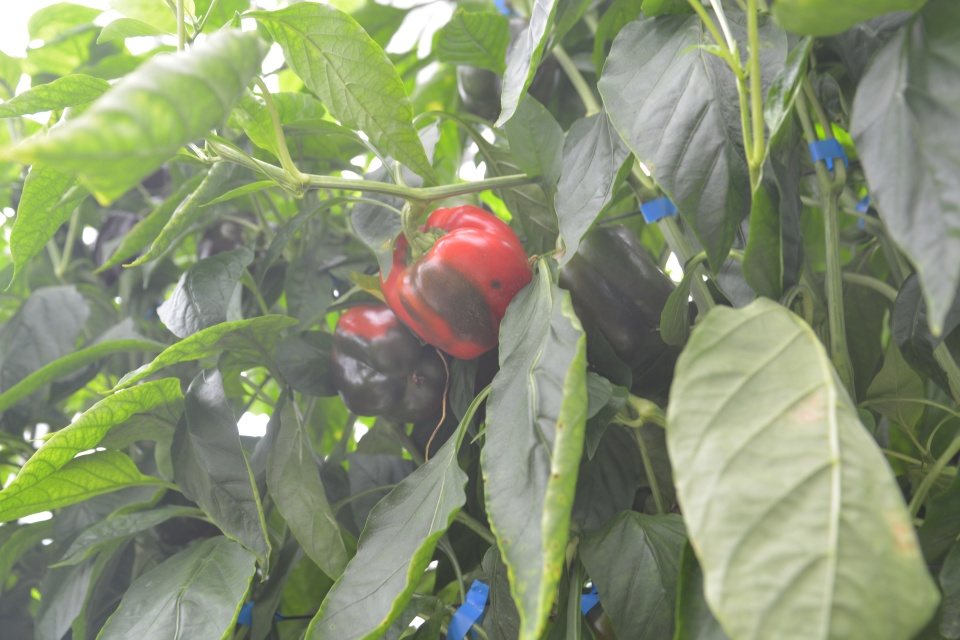fruit: (378, 200, 532, 360), (556, 220, 679, 364), (332, 304, 452, 427), (456, 16, 546, 120), (196, 210, 278, 296), (92, 208, 140, 284)
pedicle: (404, 225, 449, 265)
